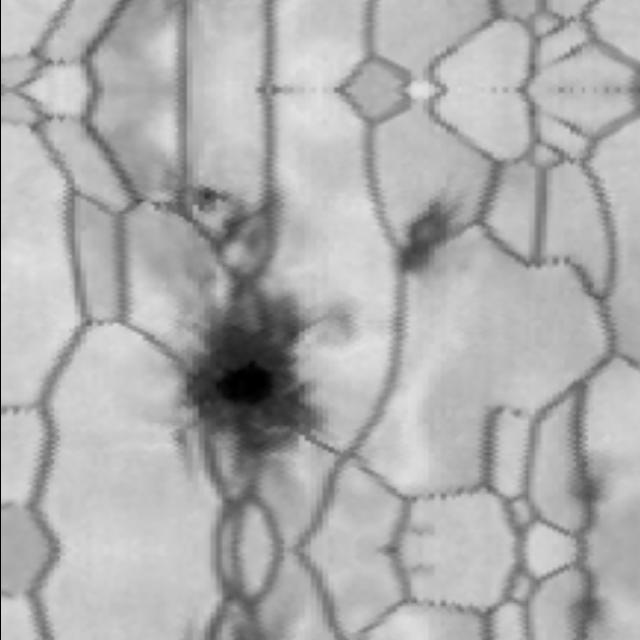good_void: (173, 277, 332, 473), (385, 184, 468, 288), (208, 182, 282, 271), (563, 447, 613, 512), (316, 295, 362, 352), (563, 590, 613, 640), (181, 181, 225, 214), (402, 516, 439, 542), (402, 560, 439, 586)
